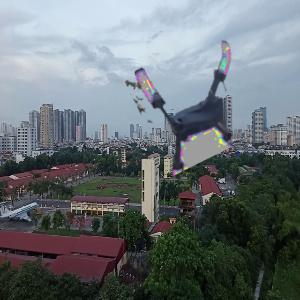drone: (140, 41, 258, 159)
